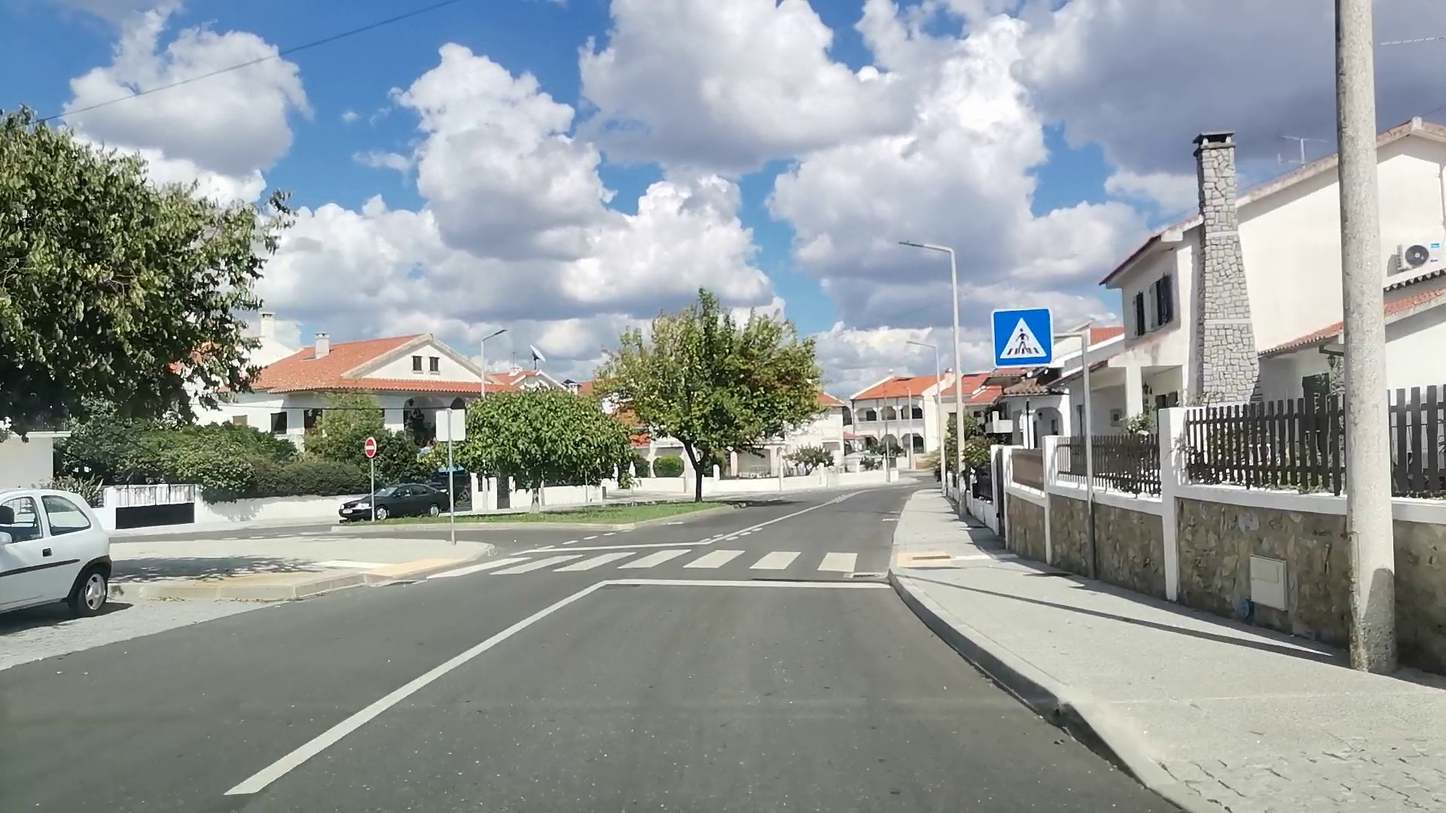Stairs: (432, 545, 876, 577)
